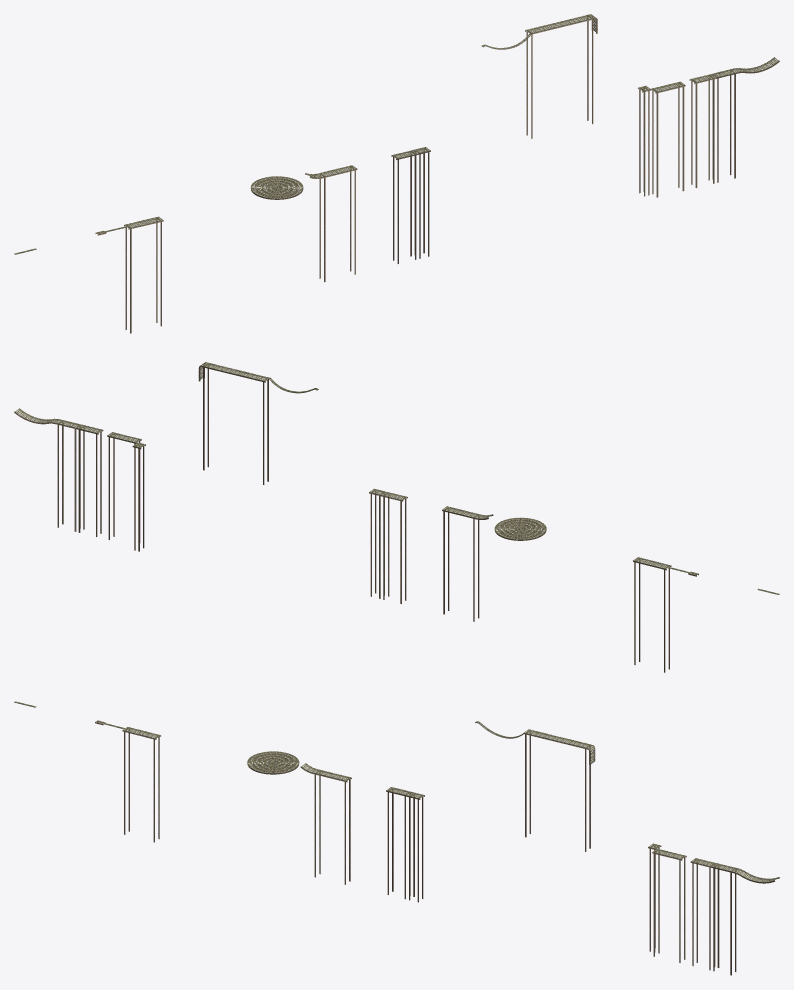
3 renders of one model, top to bottom at view 1: azimuth 30°, elevation 25°; view 2: azimuth 150°, elevation 25°; view 3: azimuth 330°, elevation 25°, orthographic.
Parts seen in each view (by area): view 1: ramp.003, Ramp.008, Ramp.005, RAMP..009, Ramp.004, RAMP..003, Ramp.020, Ramp.002, Ramp.027, Ramp.007; view 2: ramp.003, Ramp.005, RAMP..009, Ramp.004, RAMP..003, Ramp.020, Ramp.002, Ramp.027, Ramp.008, Ramp.007; view 3: ramp.003, Ramp.002, Ramp.004, RAMP..009, Ramp.008, RAMP..003, Ramp.005, Ramp.027, Ramp.020.
Part boxes in pixels (bbox=[...]): ramp.003: bbox=[525, 14, 594, 138]; Ramp.008: bbox=[651, 81, 685, 197]; Ramp.005: bbox=[689, 74, 715, 187]; RAMP..009: bbox=[124, 216, 163, 333]; Ramp.004: bbox=[318, 165, 357, 282]; RAMP..003: bbox=[250, 176, 303, 199]; Ramp.020: bbox=[391, 150, 417, 263]; Ramp.002: bbox=[711, 69, 737, 182]; Ramp.027: bbox=[413, 147, 430, 258]; Ramp.007: bbox=[638, 85, 651, 196]; ramp.003: bbox=[201, 362, 270, 484]; Ramp.005: bbox=[77, 424, 103, 536]; RAMP..009: bbox=[633, 557, 671, 672]; Ramp.004: bbox=[442, 506, 480, 621]; RAMP..003: bbox=[494, 517, 546, 540]; Ramp.020: bbox=[382, 492, 407, 603]; Ramp.002: bbox=[56, 419, 81, 531]; Ramp.027: bbox=[369, 488, 385, 598]; Ramp.008: bbox=[107, 432, 141, 542]; Ramp.007: bbox=[132, 442, 145, 551]; ramp.003: bbox=[524, 729, 591, 851]; Ramp.002: bbox=[712, 863, 737, 975]; Ramp.004: bbox=[313, 769, 351, 884]; RAMP..009: bbox=[122, 727, 160, 842]; Ramp.008: bbox=[652, 848, 686, 962]; RAMP..003: bbox=[247, 751, 299, 774]; Ramp.005: bbox=[690, 858, 716, 970]; Ramp.027: bbox=[407, 792, 424, 902]; Ramp.020: bbox=[386, 787, 411, 899].
Size of the model in its own units: 17724 by 4402 by 1055.
